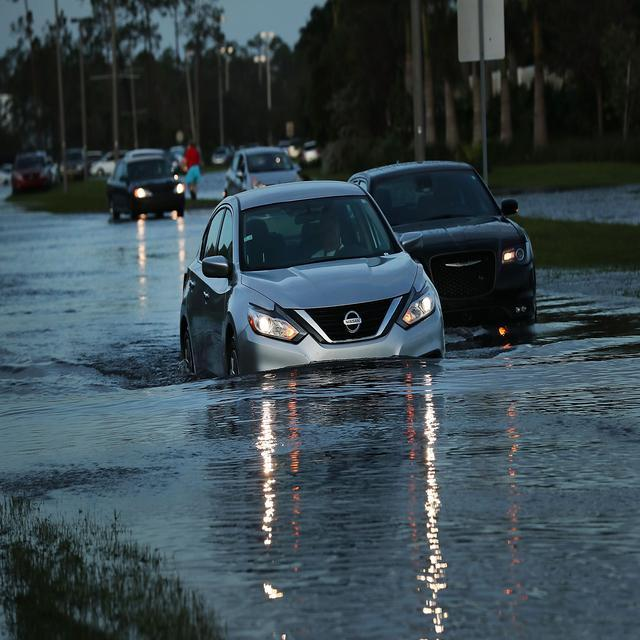Car-RiskLevel1: (95, 138, 192, 219)
Car-RiskLevel2: (167, 180, 455, 391), (366, 140, 554, 320)
